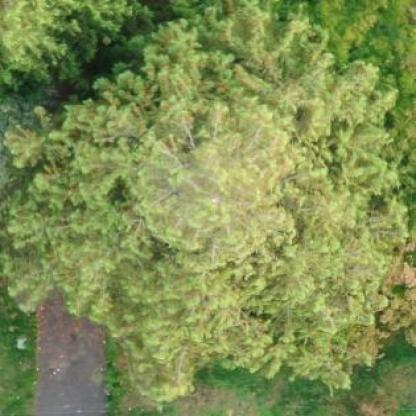Coniferous Tree: (8, 1, 416, 389)
